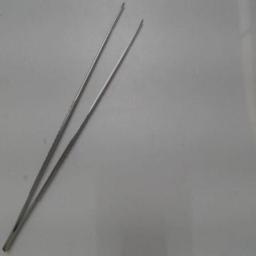DeBakey Dissector: (2, 1, 154, 255)
